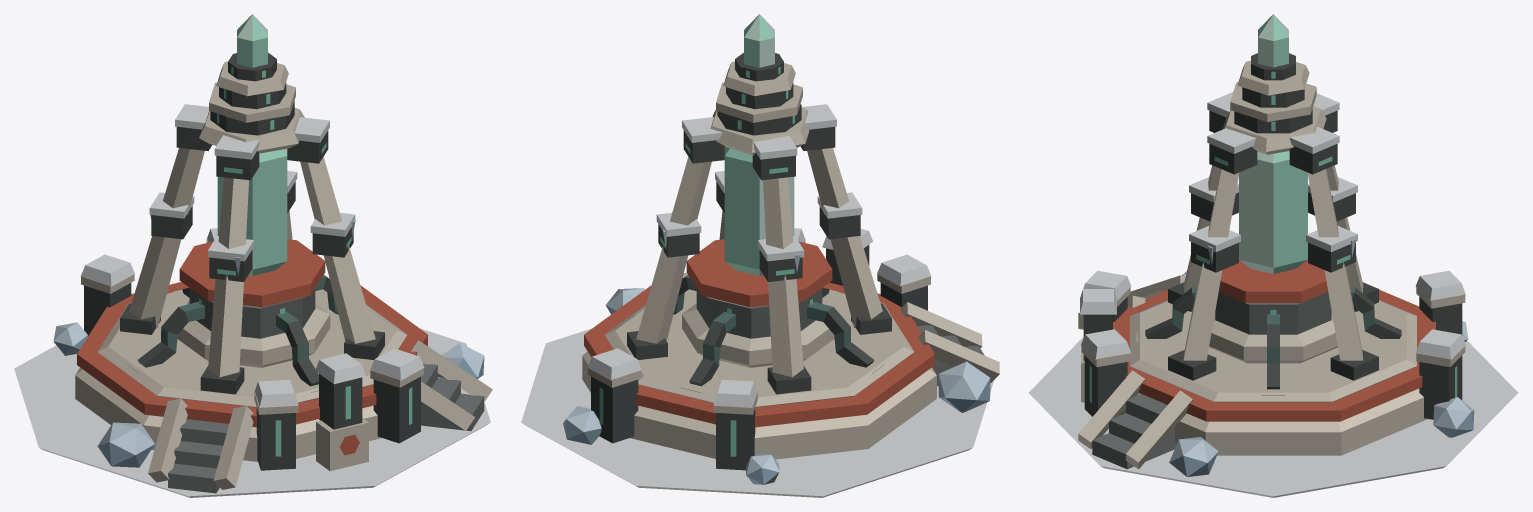
Rendered from core_arctic.glb.
The picture shows the model from 3 angles, left to right: view 1: azimuth 30°, elevation 25°; view 2: azimuth 150°, elevation 25°; view 3: azimuth 270°, elevation 25°; orthographic projection.
Visible parts, largest first — view 1: core_arctic; view 2: core_arctic; view 3: core_arctic.
Boxes of the visible parts, x1,y1,x2,y2 form: core_arctic: [14, 14, 492, 497]; core_arctic: [521, 14, 999, 497]; core_arctic: [1028, 14, 1518, 497].
Bounding box in the file's own units: 1.38 × 1.19 × 1.38.
